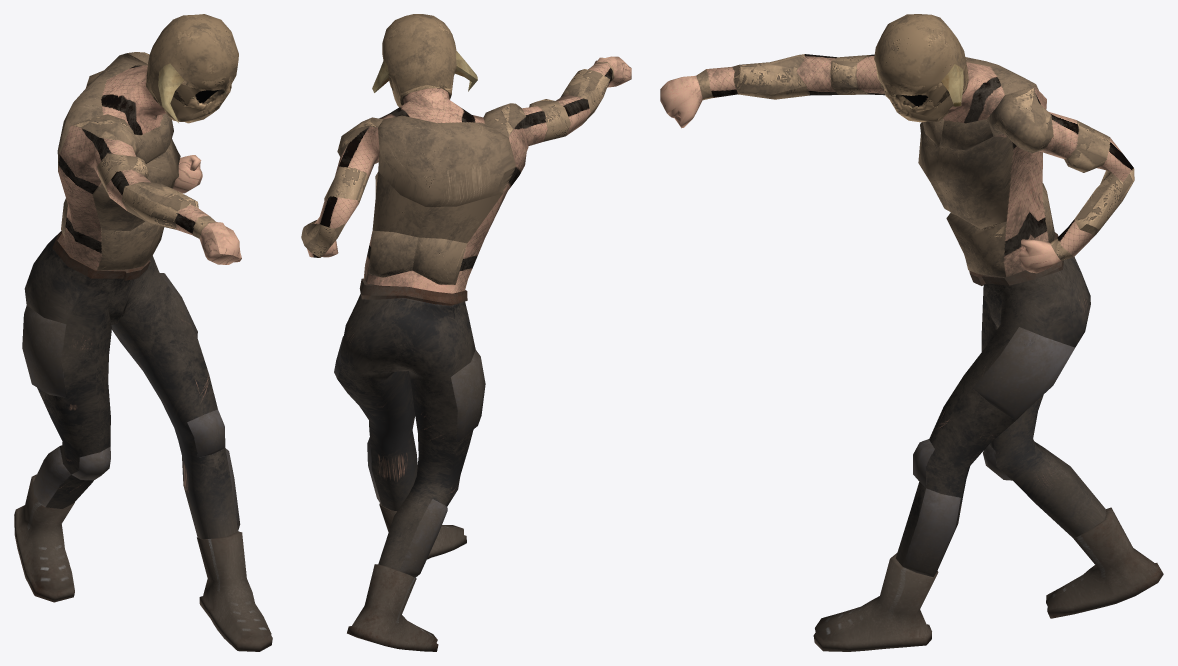
File: Anim_ataque_d2_npc1.0020.obj
The picture shows the model from 3 angles, left to right: view 1: azimuth 30°, elevation 25°; view 2: azimuth 150°, elevation 25°; view 3: azimuth 270°, elevation 25°; orthographic projection. The views are drawn at different scales.
Parts seen in each view (by area): view 1: NPC2; view 2: NPC2; view 3: NPC2.
Part boxes in pixels (bbox=[...]): NPC2: bbox=[14, 14, 272, 651]; NPC2: bbox=[301, 14, 631, 651]; NPC2: bbox=[660, 14, 1163, 651].
Bounding box in the file's own units: 2.89 × 8.91 × 6.42.
